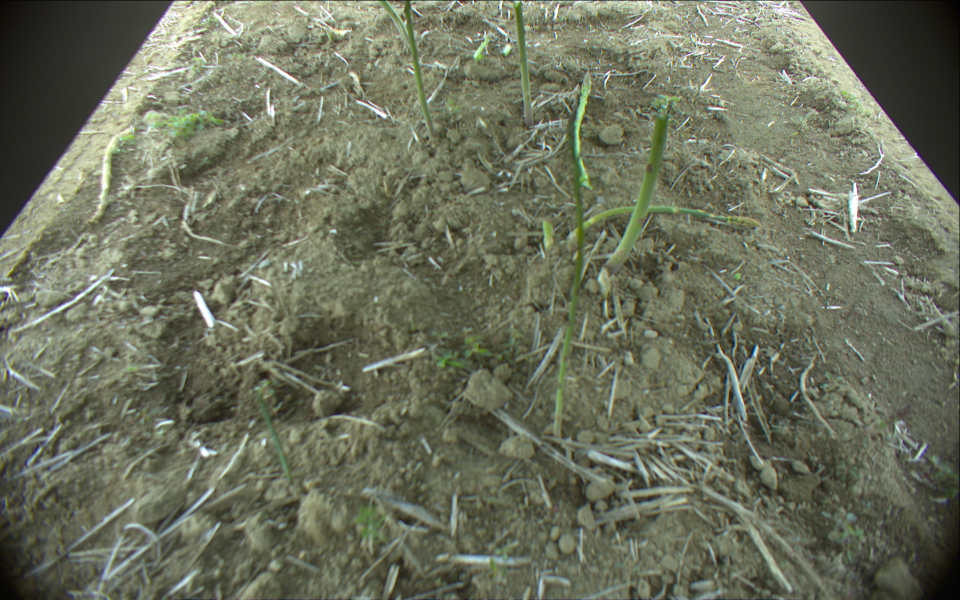aspa: (598, 105, 673, 292), (549, 84, 584, 438), (564, 203, 762, 251), (402, 1, 438, 137), (88, 127, 133, 227), (252, 393, 299, 486), (512, 1, 535, 129), (574, 71, 593, 185), (377, 1, 412, 48)
